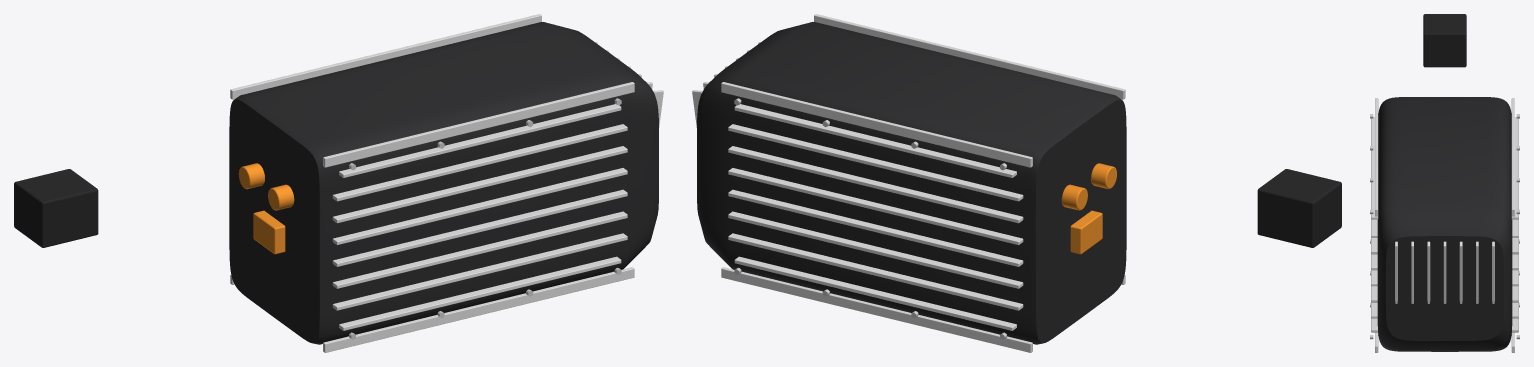
The model's file is bike_electric__battery.glb.
3 views of the same model, side by side, from view 1: azimuth 30°, elevation 25°; view 2: azimuth 150°, elevation 25°; view 3: azimuth 270°, elevation 25° (orthographic). The views are drawn at different scales.
Visible parts, largest first — view 1: powertrain__traction_battery__case, powertrain__traction_battery__cooling_fins, electrical__aux_battery_12v, powertrain__traction_battery__hv_connectors; view 2: powertrain__traction_battery__case, powertrain__traction_battery__cooling_fins, electrical__aux_battery_12v, powertrain__traction_battery__hv_connectors; view 3: powertrain__traction_battery__case, powertrain__traction_battery__cooling_fins, electrical__aux_battery_12v, powertrain__traction_battery__bolts.
Part boxes in pixels (<box>): powertrain__traction_battery__case: <box>229,22,658,344</box>; powertrain__traction_battery__cooling_fins: <box>230,14,663,352</box>; electrical__aux_battery_12v: <box>14,169,98,247</box>; powertrain__traction_battery__hv_connectors: <box>239,163,294,254</box>; powertrain__traction_battery__case: <box>697,22,1126,344</box>; powertrain__traction_battery__cooling_fins: <box>692,14,1125,352</box>; electrical__aux_battery_12v: <box>1257,169,1341,247</box>; powertrain__traction_battery__hv_connectors: <box>1061,163,1116,254</box>; powertrain__traction_battery__case: <box>1377,97,1512,351</box>; powertrain__traction_battery__cooling_fins: <box>1371,98,1518,352</box>; electrical__aux_battery_12v: <box>1423,14,1466,67</box>; powertrain__traction_battery__bolts: <box>1370,114,1519,339</box>.
Bounding box in the file's own units: 95.27 × 30 × 27.8.
